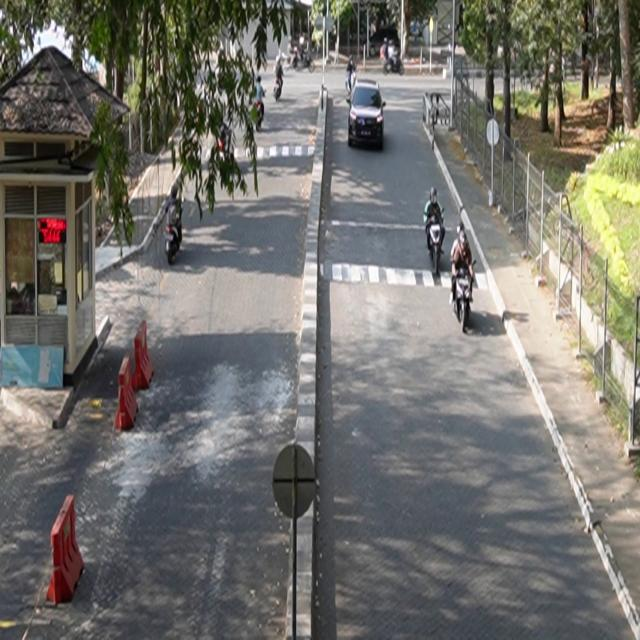car: (348, 81, 387, 151)
